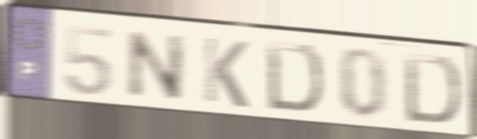0: (336, 45, 391, 123)
5: (62, 22, 113, 98)
D: (401, 49, 464, 129), (263, 38, 326, 117)
K: (201, 34, 251, 111)
N: (124, 27, 190, 103)
